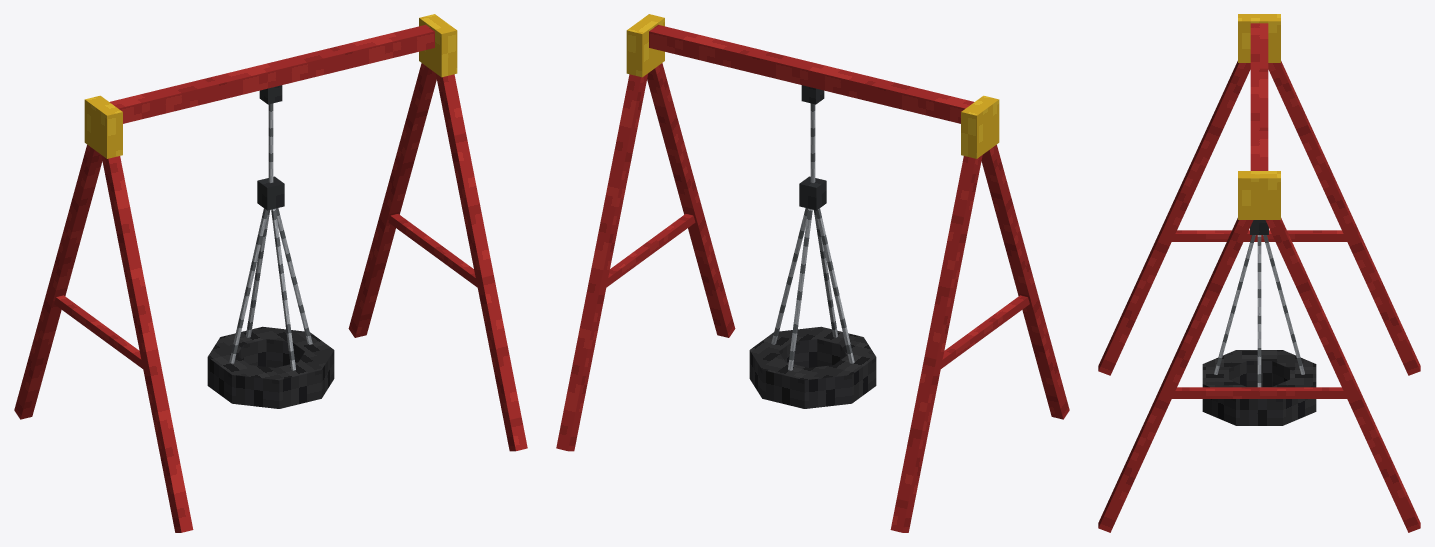
The model's file is swing_tyre_set.obj.
3 views of the same model, side by side, from view 1: azimuth 30°, elevation 25°; view 2: azimuth 150°, elevation 25°; view 3: azimuth 270°, elevation 25° (orthographic). The views are drawn at different scales.
Visible parts, largest first — view 1: swing_tyre_set; view 2: swing_tyre_set; view 3: swing_tyre_set.
Part boxes in pixels (x1,y1,x2,y2): swing_tyre_set: (14,14,527,532); swing_tyre_set: (556,14,1069,532); swing_tyre_set: (1098,14,1420,532).
Size of the model in its own units: 2.78 by 2.8 by 2.3.
